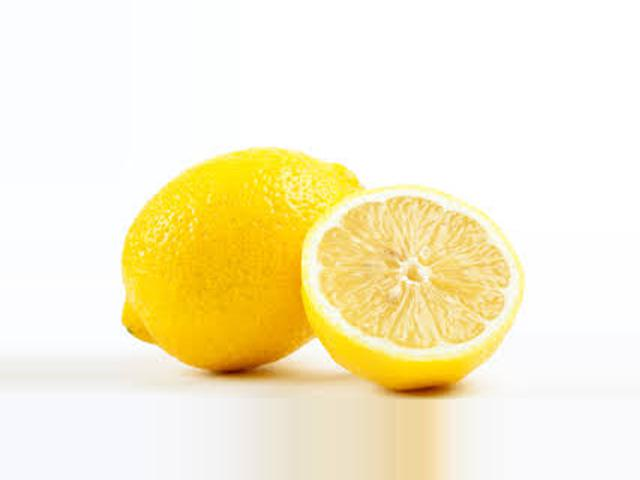lemon: (111, 154, 390, 394)
